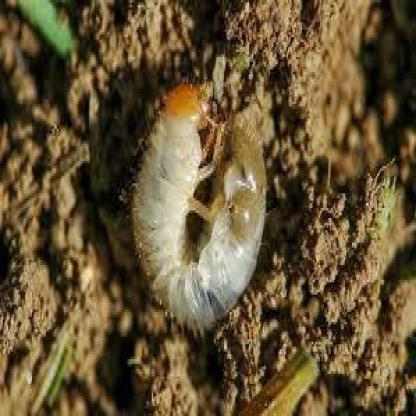root grubs: (134, 82, 268, 331)
